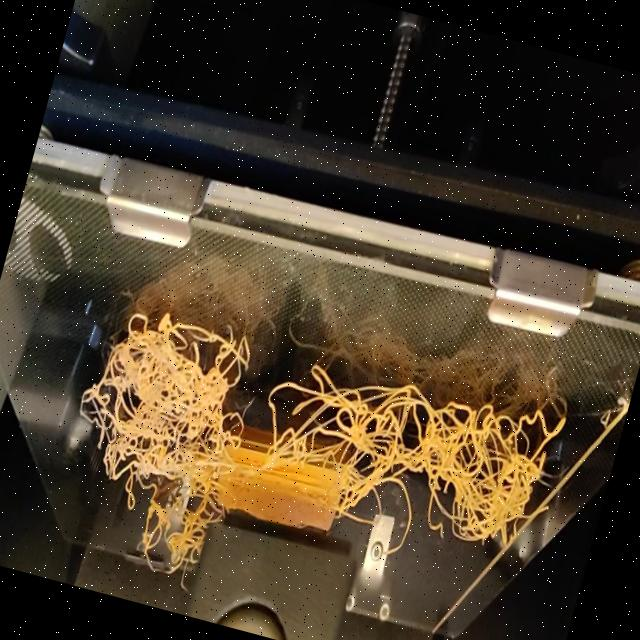spaghetti: (64, 283, 578, 590), (88, 478, 215, 600)
